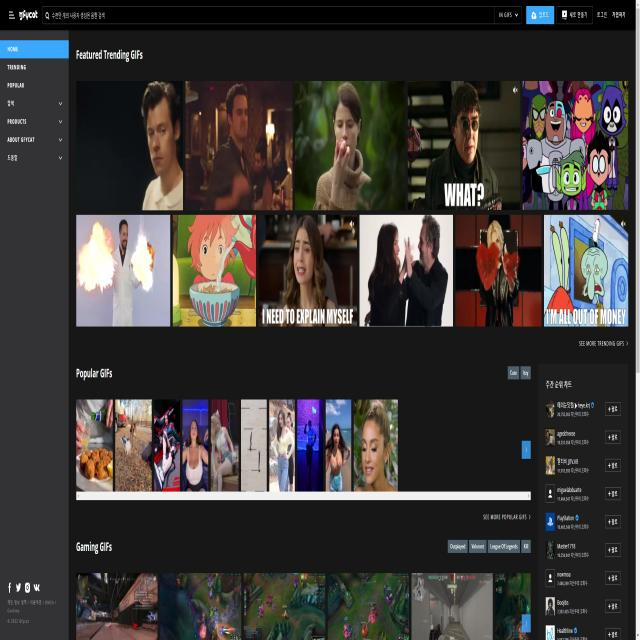menu-bar: (524, 6, 628, 25)
menu-panel: (3, 32, 67, 169)
search: (43, 4, 523, 22)
